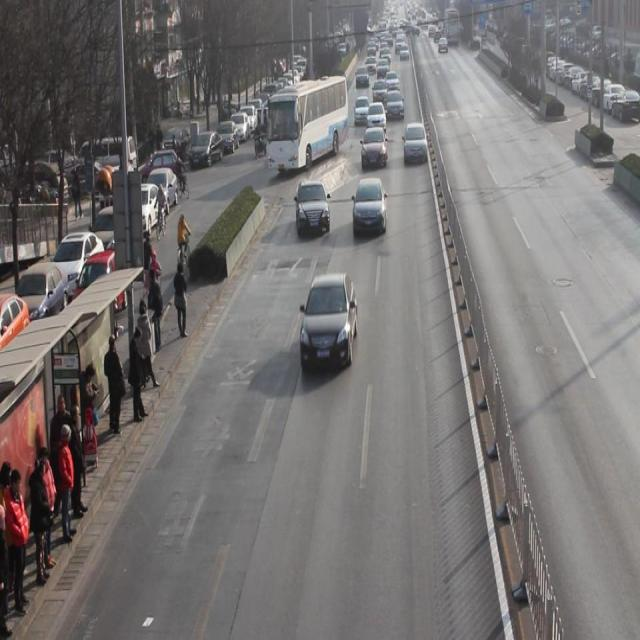car: (301, 274, 358, 370), (353, 177, 388, 237), (297, 180, 332, 235), (362, 125, 389, 170), (404, 122, 429, 166), (367, 102, 388, 134), (387, 90, 405, 122), (355, 95, 372, 126)
van: (268, 73, 346, 179)
